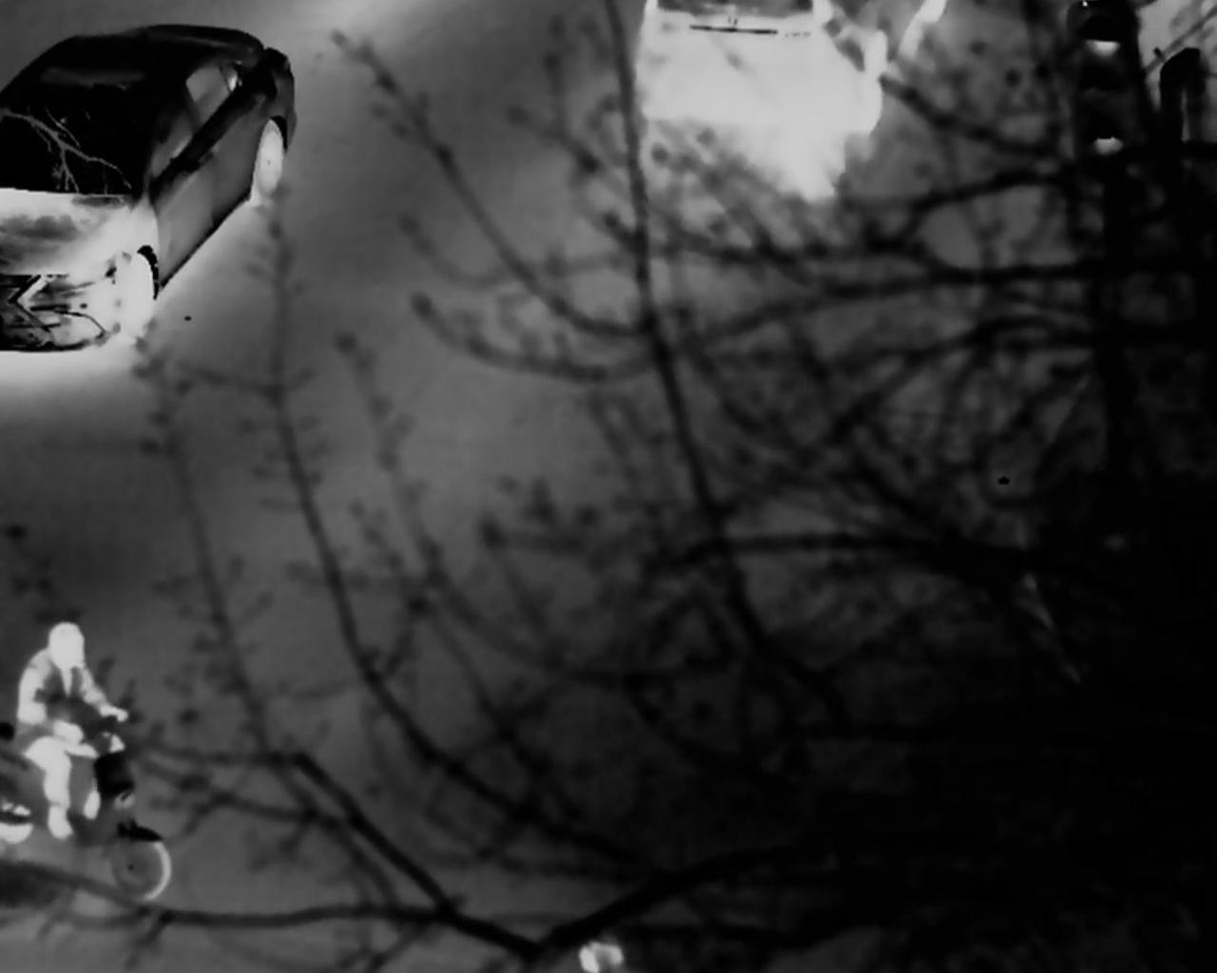person: (13, 619, 135, 840)
